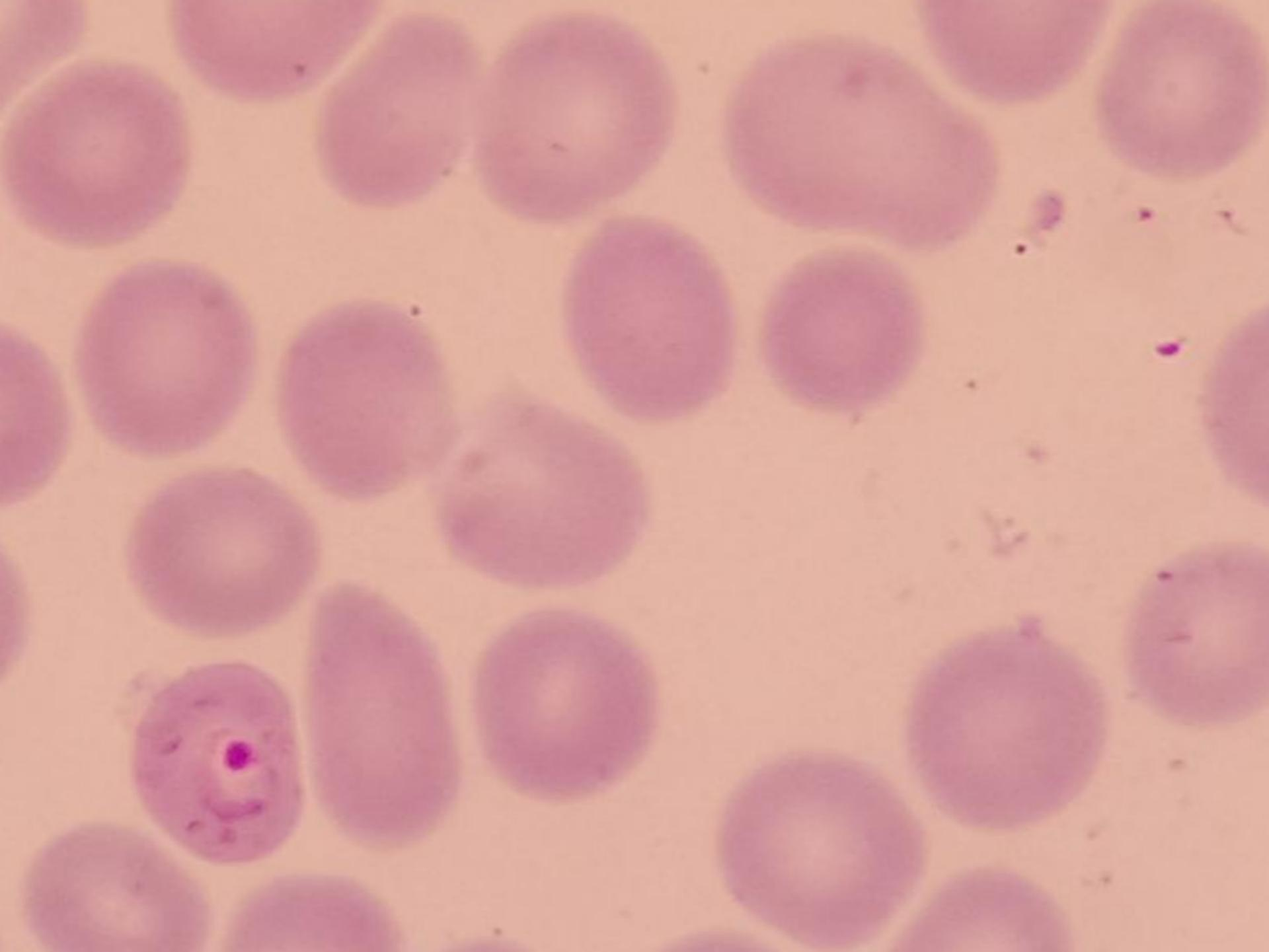Infected: (132, 664, 303, 865)
Uninfected: (727, 28, 998, 248), (304, 577, 464, 845), (479, 9, 672, 227), (714, 750, 929, 941), (912, 630, 1110, 831), (436, 407, 649, 584), (469, 613, 665, 802), (74, 258, 252, 456), (7, 58, 185, 248), (126, 461, 319, 636), (284, 296, 452, 496), (570, 217, 731, 423), (316, 9, 468, 211), (1096, 0, 1264, 178), (1134, 539, 1269, 730), (763, 256, 923, 411), (26, 823, 202, 952), (172, 0, 373, 101), (924, 0, 1106, 110)
